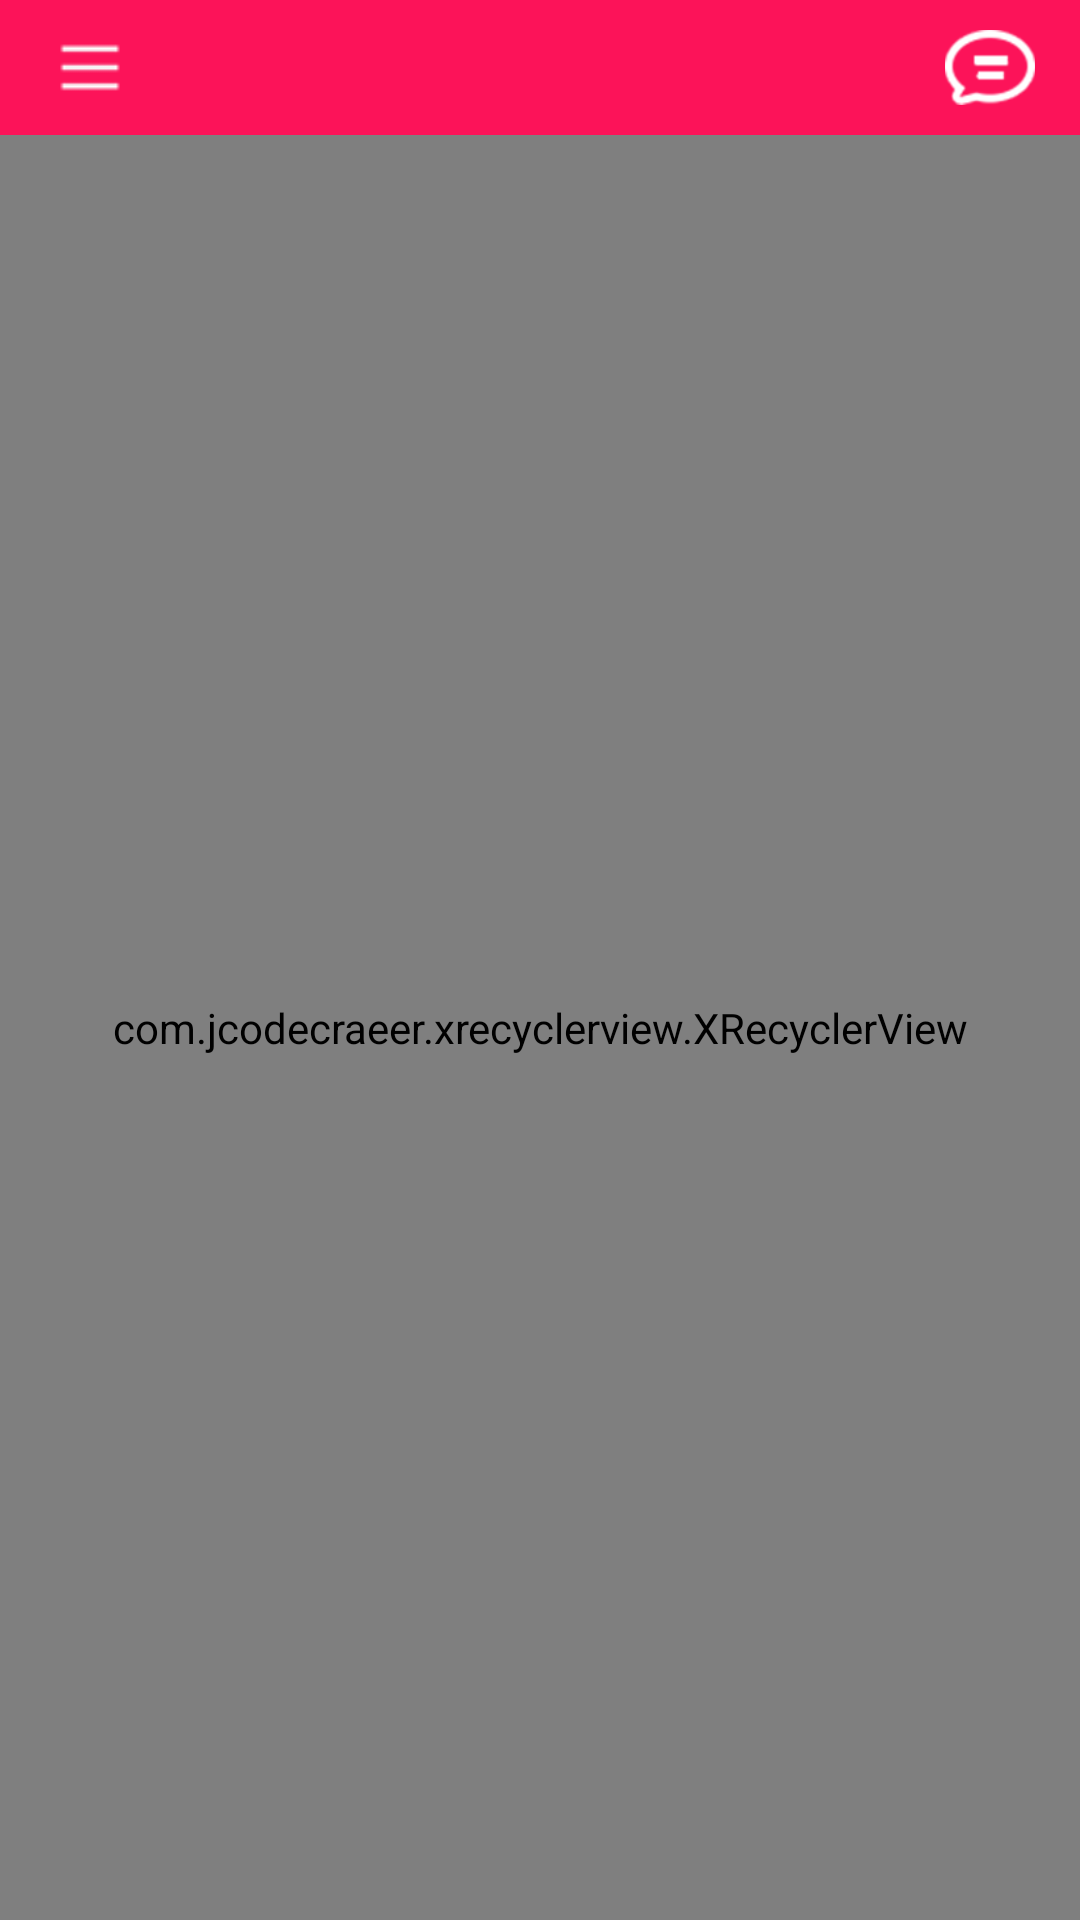

Named icons in this screenshot (1080w x 1920h) and their bounding boxes, rect(x1, y1, x2, y2):
menu: rect(60, 44, 120, 91)
message: rect(945, 30, 1035, 105)
